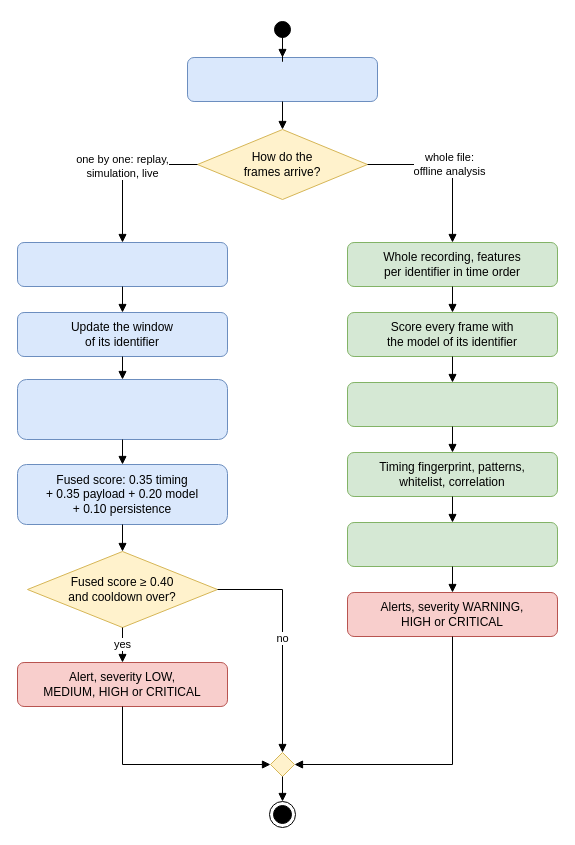
The diagram is 575 pixels wide and 845 high, and some of its shapes have lost their labels. The centre of each missing label's shape, as x and y in pixels:
Flagged (score > 0.5) or unresolved, with its reason: point (452, 404)
Frames of a log file or of an adapter: point (282, 79)
Merge bursts (8 alerts on one identifier in 2 s): point (452, 544)
One frame at a time (RealtimeEngine.process_frame): point (122, 264)
Timing layer, payload layer, model layer (score of the identifier): point (122, 409)
